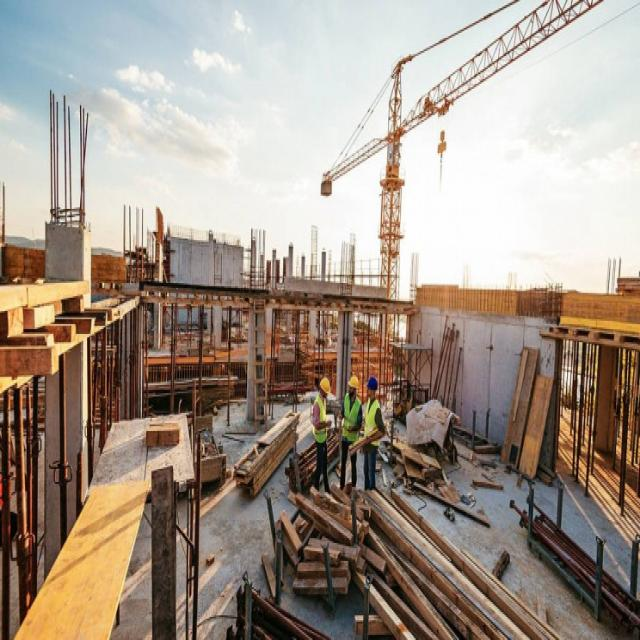Reflective-Jacket: (342, 395, 362, 442), (365, 395, 382, 446), (312, 395, 328, 444)
Safety-Helmet: (318, 374, 331, 393), (366, 374, 378, 388), (348, 374, 360, 388)
